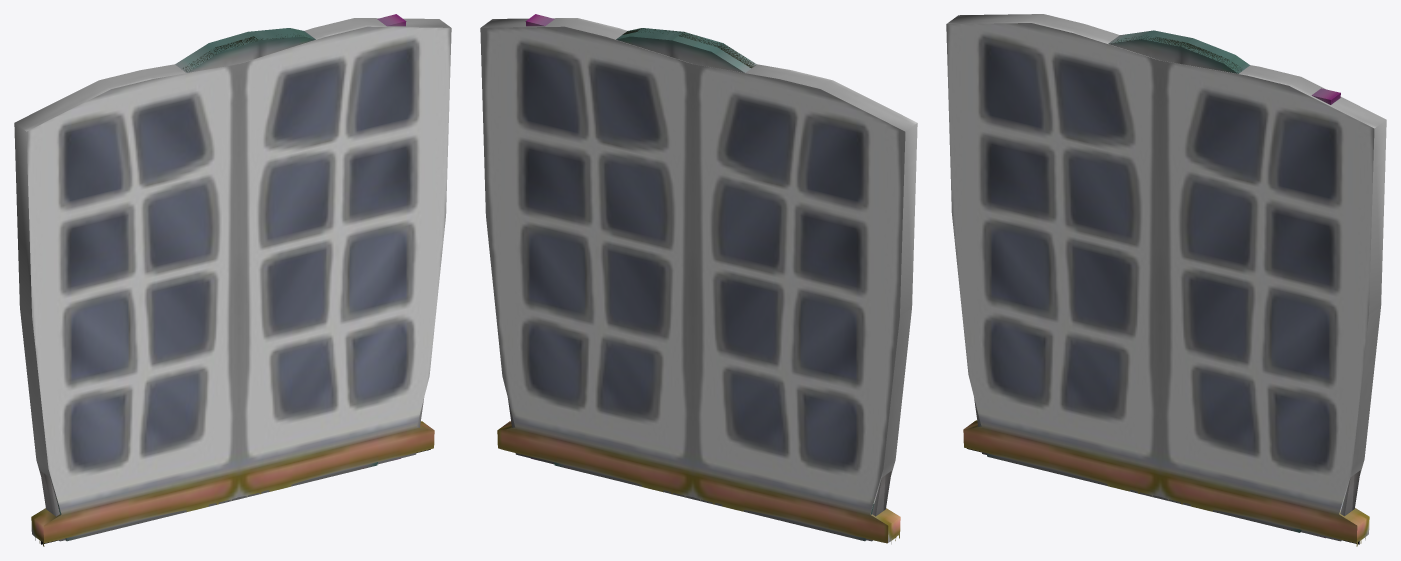
The model's file is doors.glb.
The picture shows the model from 3 angles, left to right: view 1: azimuth 30°, elevation 25°; view 2: azimuth 150°, elevation 25°; view 3: azimuth 330°, elevation 25°; orthographic projection.
Visible parts, largest first — view 1: leftDoor (×2), rightDoor (×2); view 2: leftDoor (×2), rightDoor (×2); view 3: rightDoor (×3), leftDoor (×2).
Part boxes in pixels (x1=…): leftDoor (×2): x1=14, y1=32, x2=259, y2=546; rightDoor (×2): x1=229, y1=18, x2=451, y2=501; leftDoor (×2): x1=672, y1=32, x2=917, y2=544; rightDoor (×2): x1=480, y1=18, x2=702, y2=501; rightDoor (×3): x1=1151, y1=38, x2=1386, y2=546; leftDoor (×2): x1=946, y1=14, x2=1192, y2=497.
Size of the model in its own units: 8.06 by 8.24 by 0.4.
Materials: 4 (3 with a texture image).
